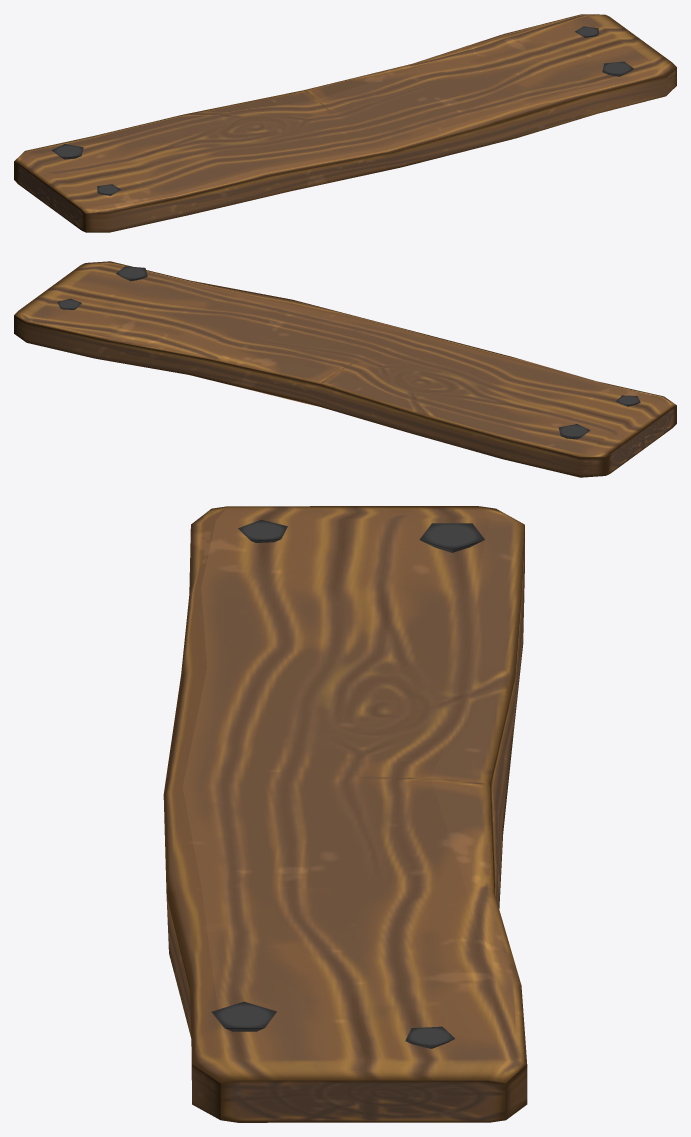
Rendered from Plank Medium Nails.fbx.
3 views of the same model, one above another, from view 1: azimuth 30°, elevation 25°; view 2: azimuth 150°, elevation 25°; view 3: azimuth 270°, elevation 25° (orthographic). The views are drawn at different scales.
Visible parts, largest first — view 1: pCylinder9; view 2: pCylinder9; view 3: pCylinder9.
Boxes of the visible parts, left/top/right/bottom form: pCylinder9: left=14, top=14, right=676, bottom=232; pCylinder9: left=14, top=261, right=676, bottom=477; pCylinder9: left=163, top=506, right=527, bottom=1122.
Size of the model in its own units: 10.64 by 0.5957 by 2.84.
